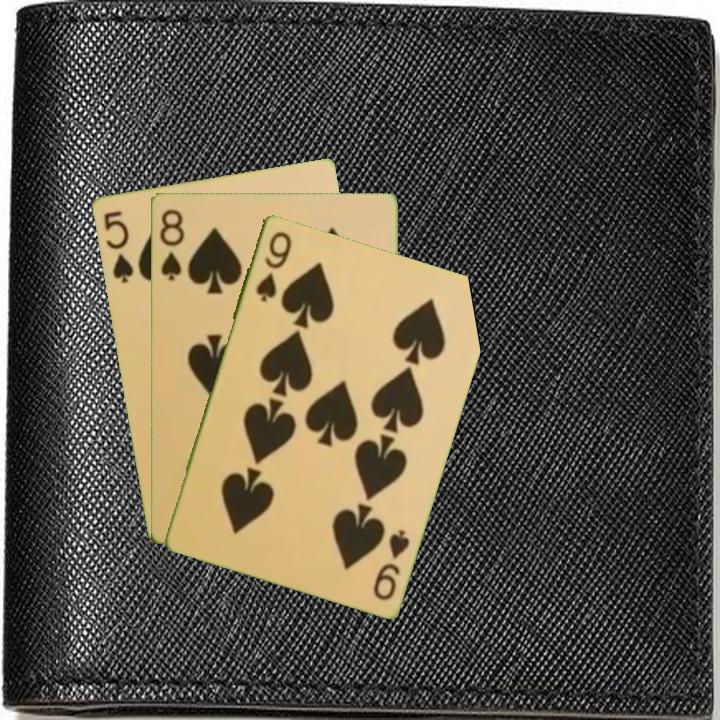5s: (99, 207, 136, 286)
8s: (156, 205, 187, 283)
9s: (369, 525, 413, 603), (252, 227, 295, 305)
